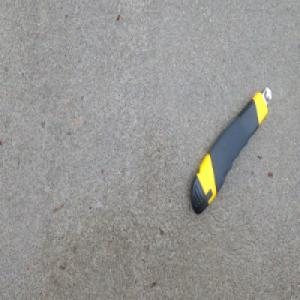Cutter: (189, 86, 272, 217)
